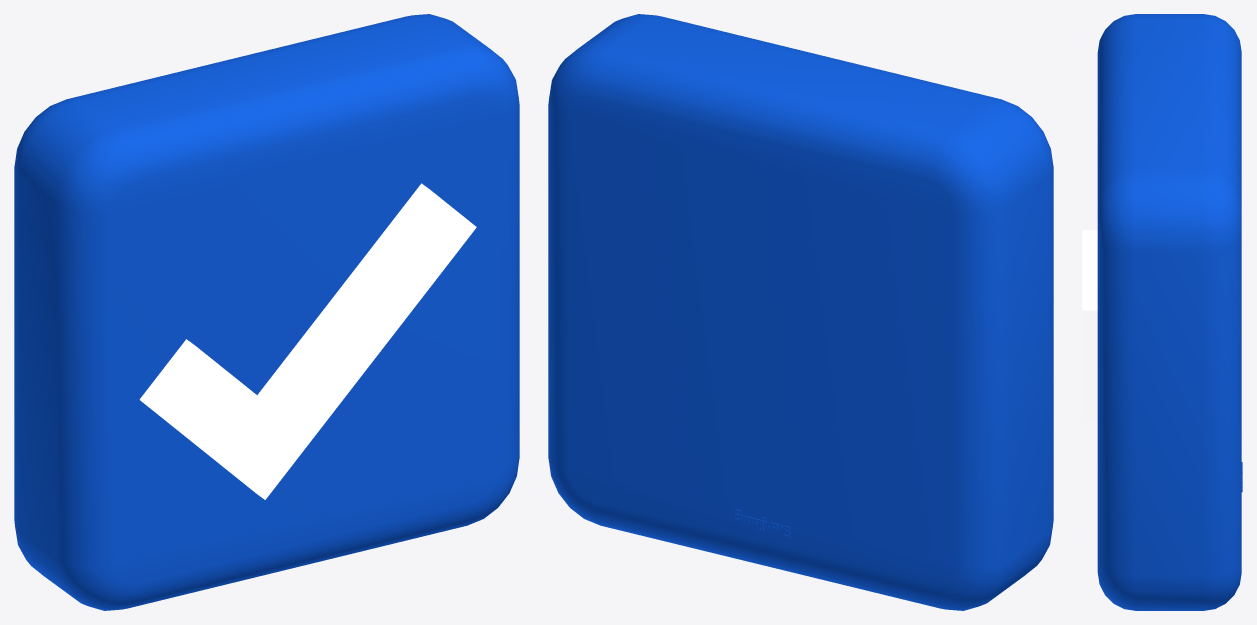
The model's file is check_box_with_check.gltf.
3 renders of one model, left to right at view 1: azimuth 30°, elevation 25°; view 2: azimuth 150°, elevation 25°; view 3: azimuth 270°, elevation 25°, orthographic. The views are drawn at different scales.
Visible parts, largest first — view 1: Cube.6459; view 2: Cube.6459; view 3: Cube.6459.
Part boxes in pixels (bbox=[...]): Cube.6459: bbox=[14, 14, 519, 610]; Cube.6459: bbox=[548, 14, 1053, 610]; Cube.6459: bbox=[1082, 14, 1242, 610].
Bounding box in the file's own units: 2.2 × 2.2 × 0.7337.
1 material, 1 textured.
